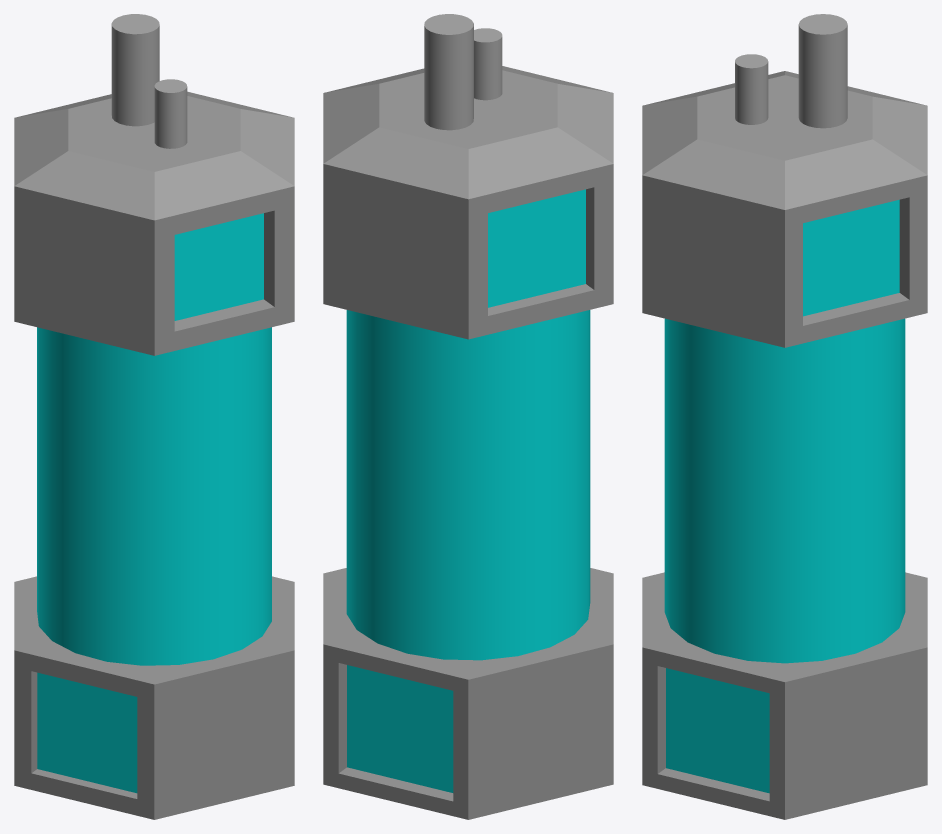
File: Rifle Ammo.fbx
The picture shows the model from 3 angles, left to right: view 1: azimuth 30°, elevation 25°; view 2: azimuth 150°, elevation 25°; view 3: azimuth 270°, elevation 25°; orthographic projection. The views are drawn at different scales.
Visible parts, largest first — view 1: pCylinder13; view 2: pCylinder13; view 3: pCylinder13.
Part boxes in pixels (x1=…): pCylinder13: x1=14, y1=14, x2=294, y2=819; pCylinder13: x1=323, y1=14, x2=613, y2=819; pCylinder13: x1=642, y1=14, x2=927, y2=819.
Bounding box in the file's own units: 2 × 5.01 × 1.73.
